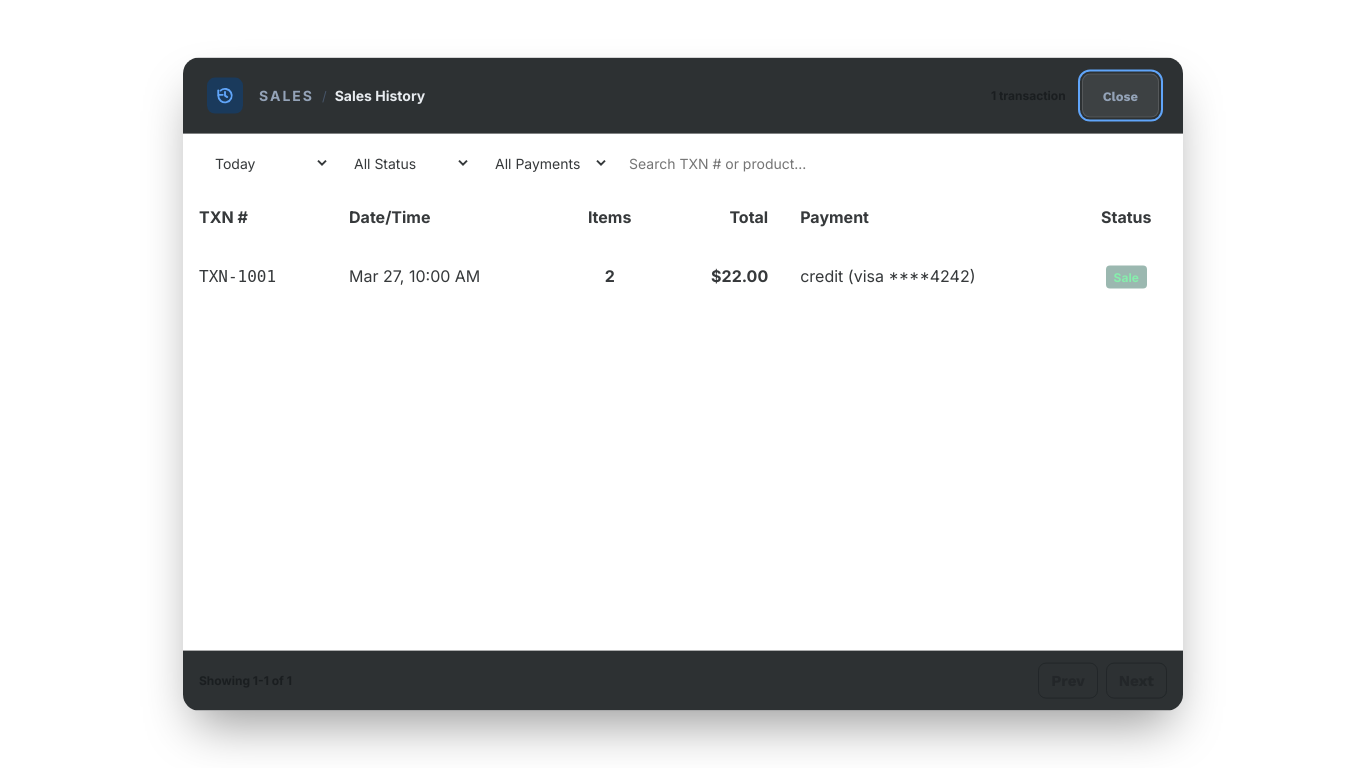
Test: SalesHistoryModal › handles detail load failure by showing fallback loading detail text
Step 1. Click the row with test id "sales-history-row-1" → (238, 276), box [183,242,1183,310]
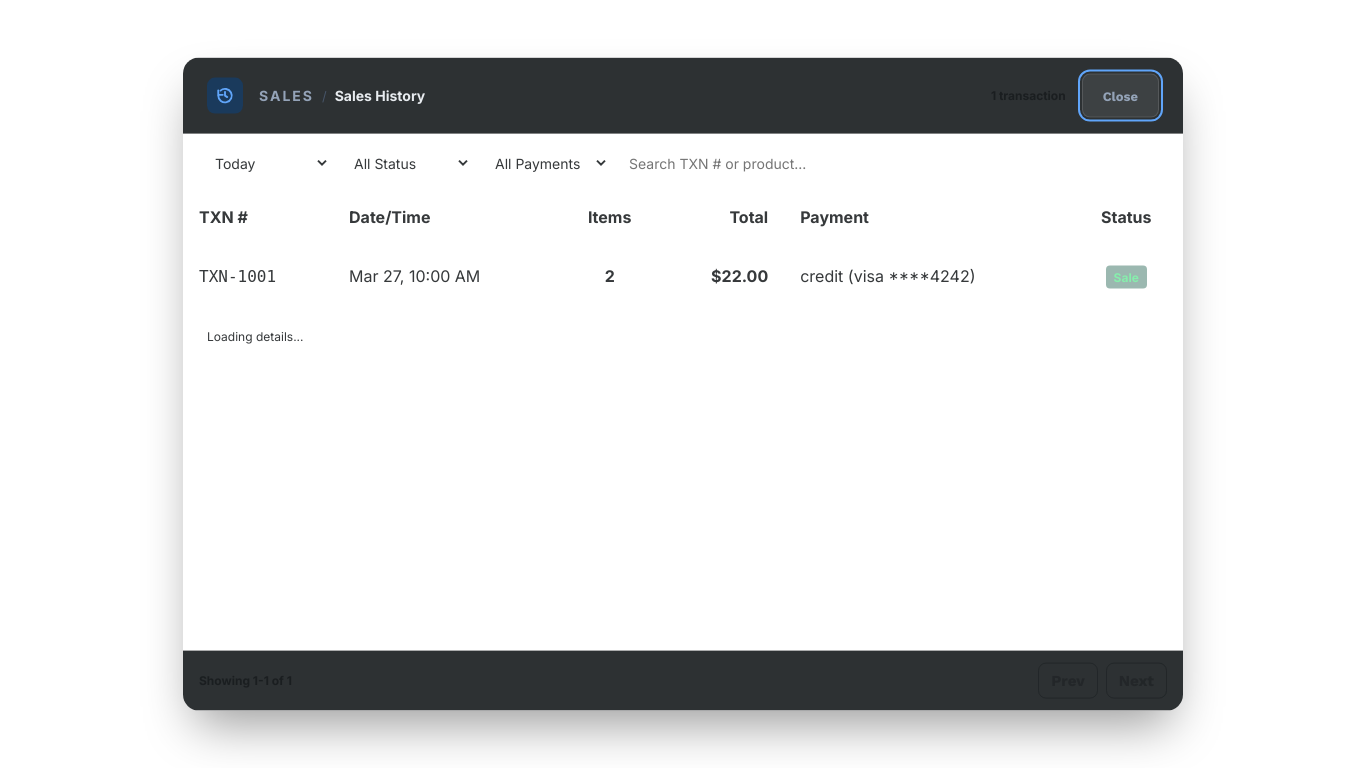
Now the text "Loading details..." is shown, box [207,328,304,343]
